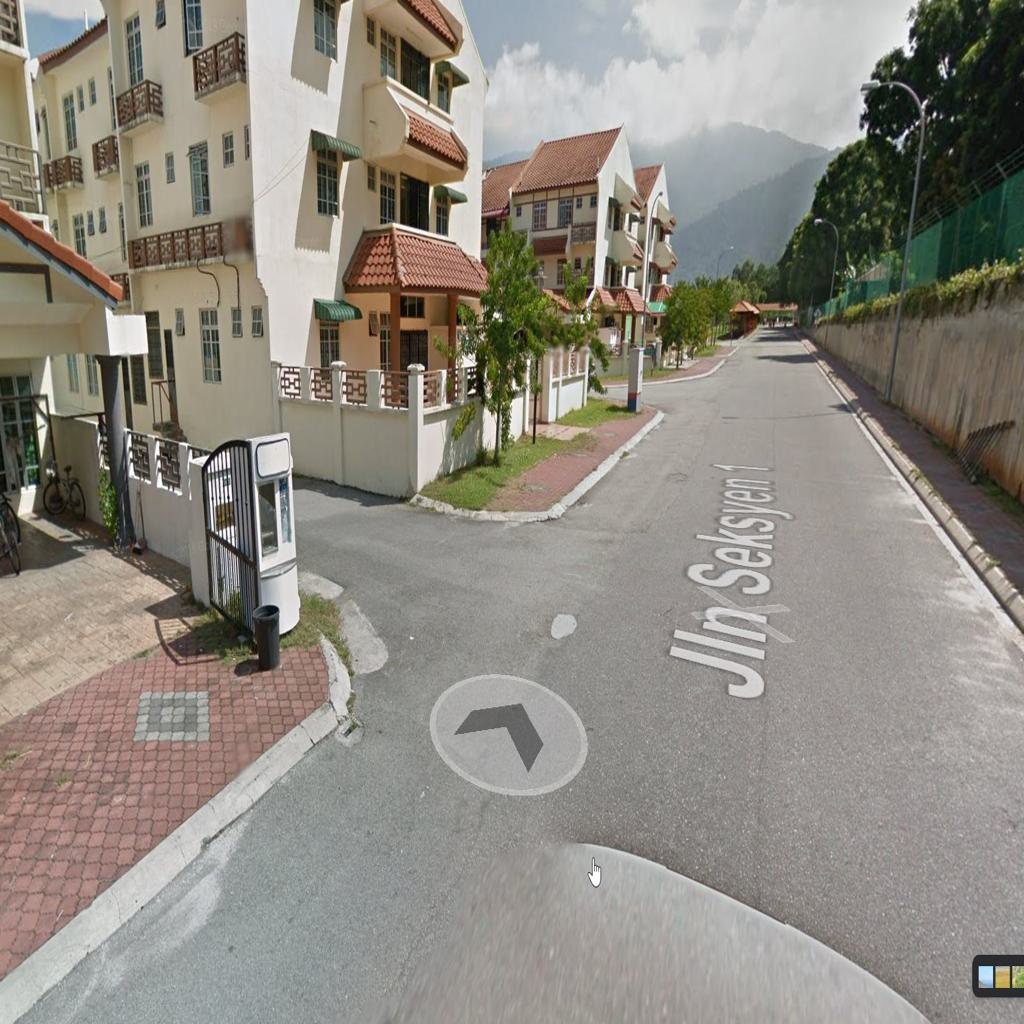Junction: (296, 479, 556, 691), (590, 367, 714, 430)
